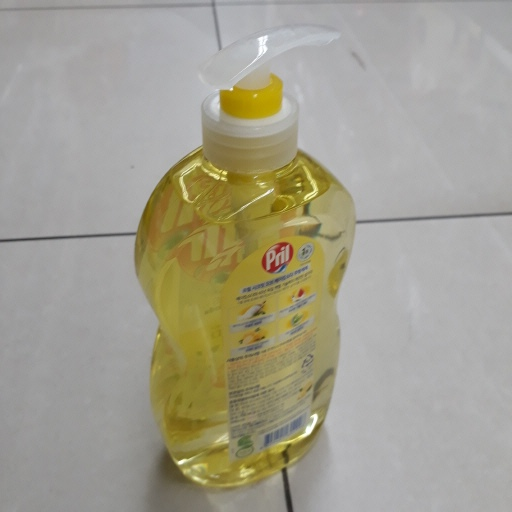Plastic_3: (133, 25, 367, 490)
